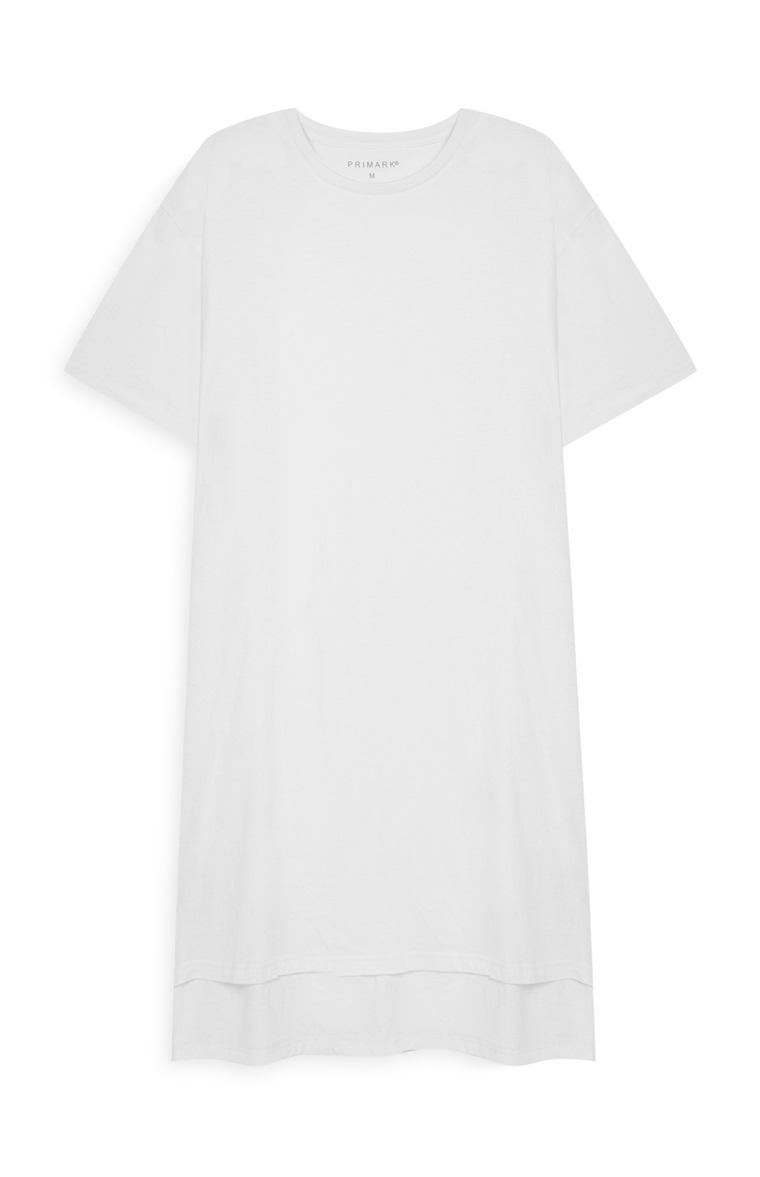teeshirt: (75, 92, 723, 1079)
